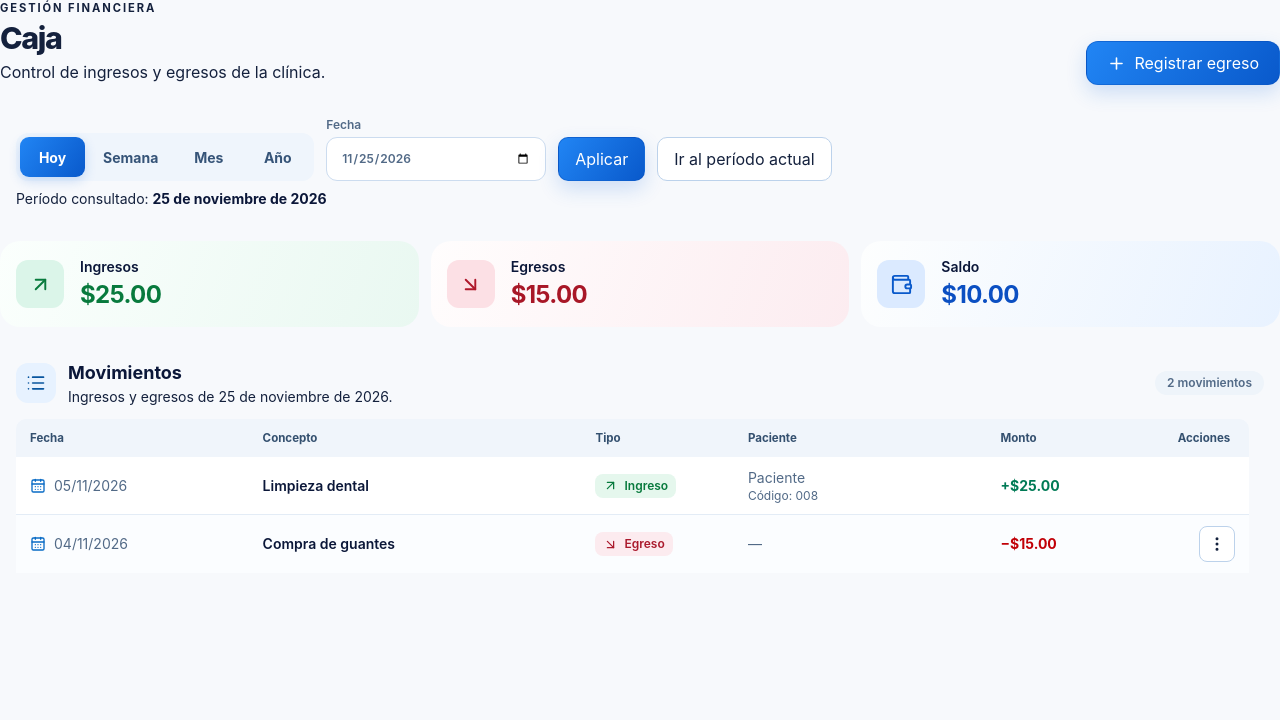
it: CashPage › creates with today’s date, accepts cents, rejects excess decimals, and refreshes totals
The width and height of the screenshot is (1280, 720).
Expected: the text "Limpieza dental" is shown, [263,477,369,494]
Click the button "Registrar egreso": (1183, 63) [1086,41,1279,85]
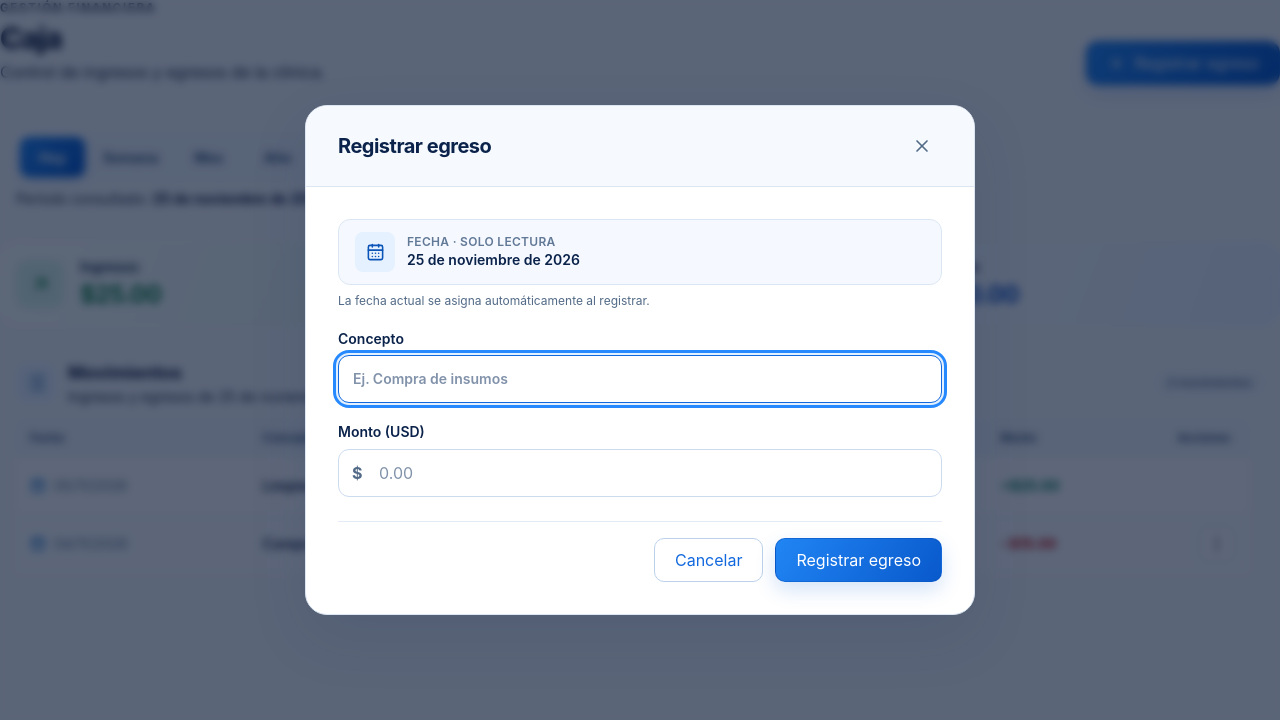
Now the text "25 de noviembre de 2026" is shown, box [407,250,580,270]
In the field labelled "Concepto": (640, 379) [338,355,942,403], type "Material"
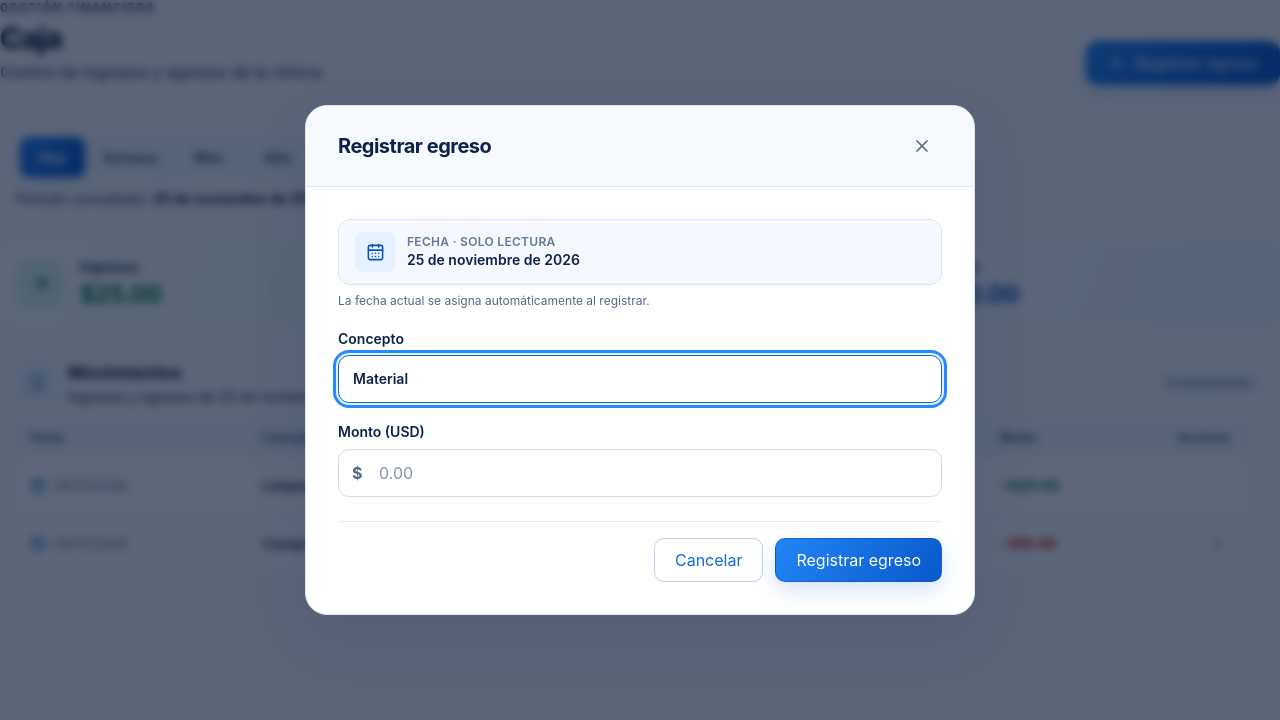
In the number field labelled "Monto (USD)": (640, 473) [338,449,942,497], type "5.999"
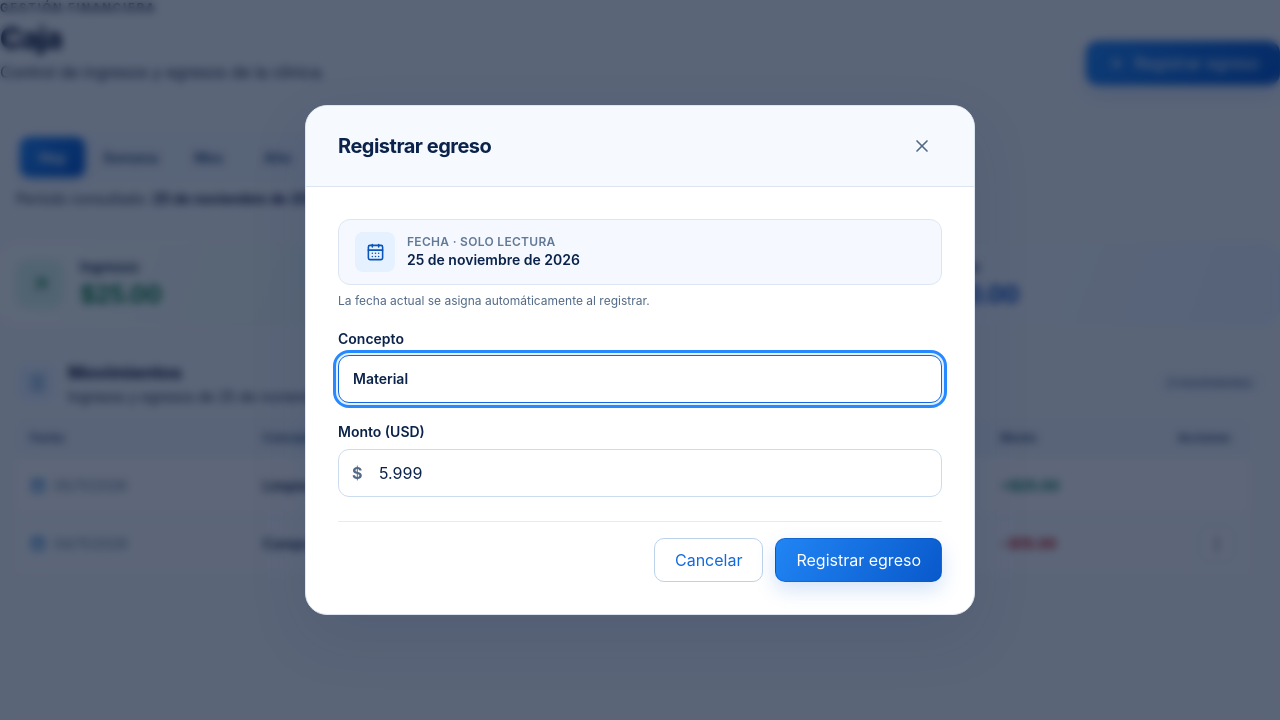
Submit the form named "Datos del egreso", box [338,219,942,582]
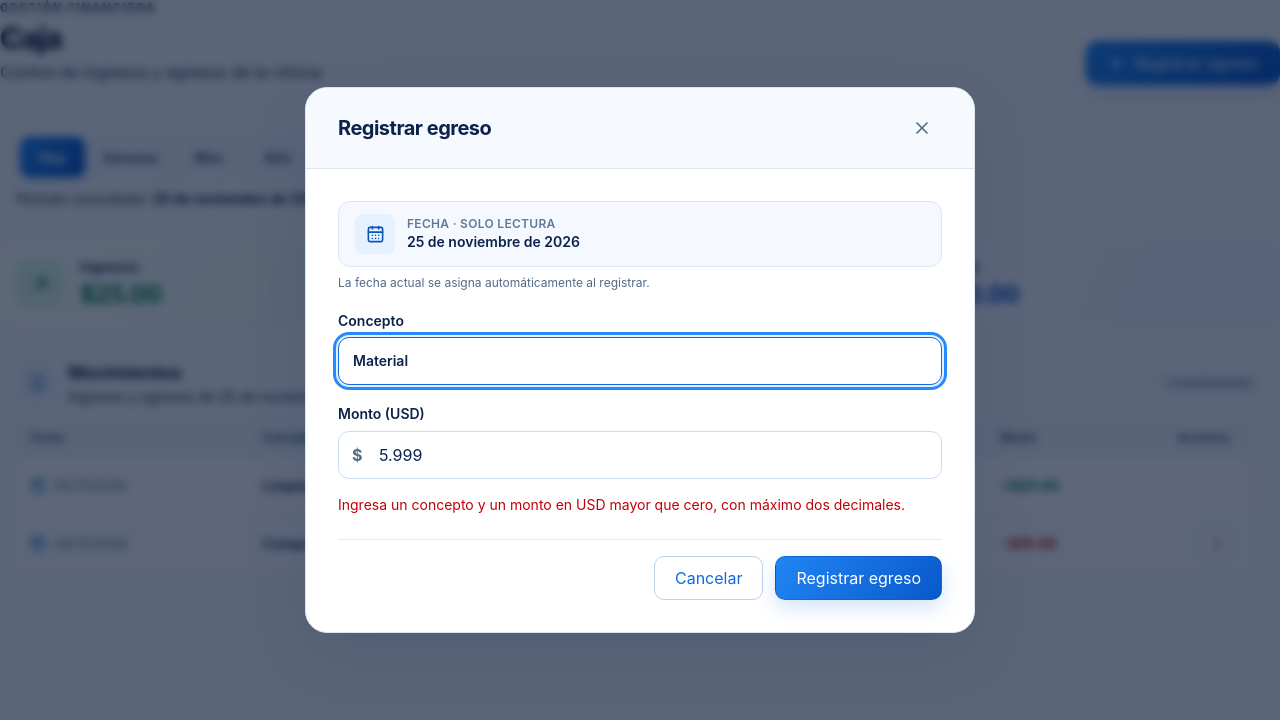
Now the message shows "máximo dos decimales", box [338,496,905,513]
Replace the text in the number field labelled "Monto (USD)" with "5.00": (640, 455) [338,431,942,479]
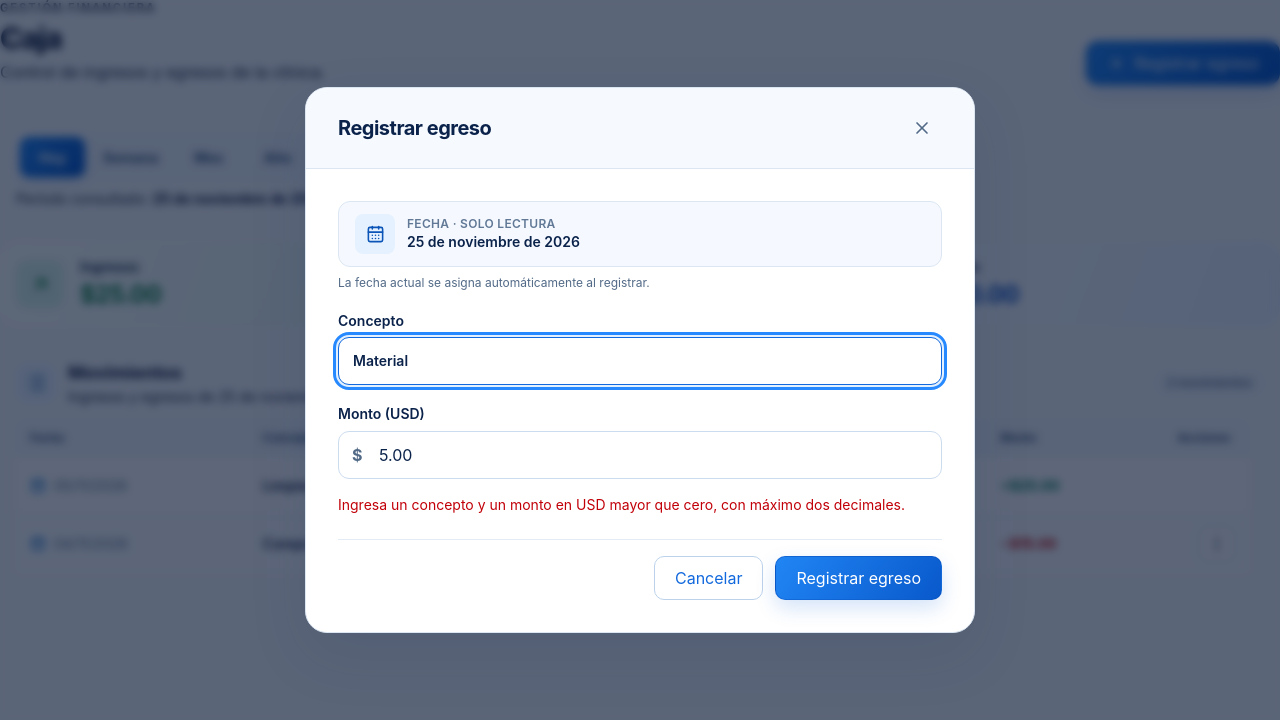
Submit the form named "Datos del egreso", box [338,201,942,600]
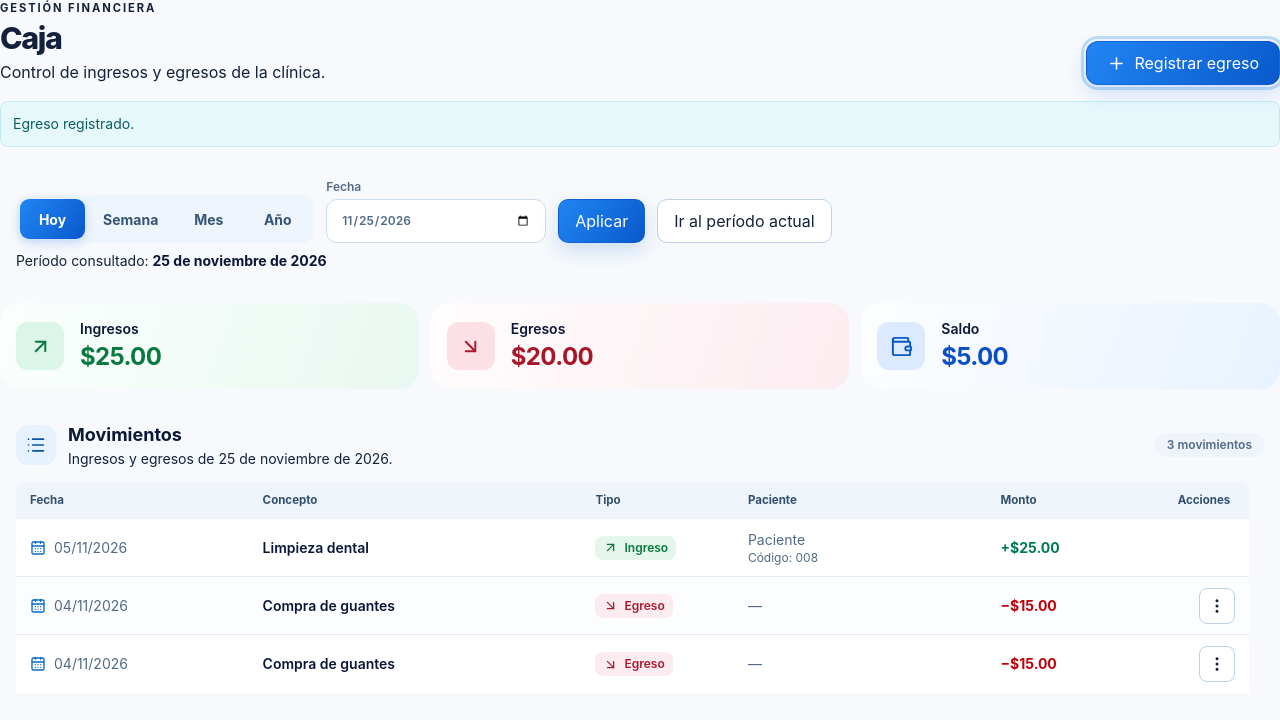
Now the text "$5.00" is shown, box [941,341,1008,373]
